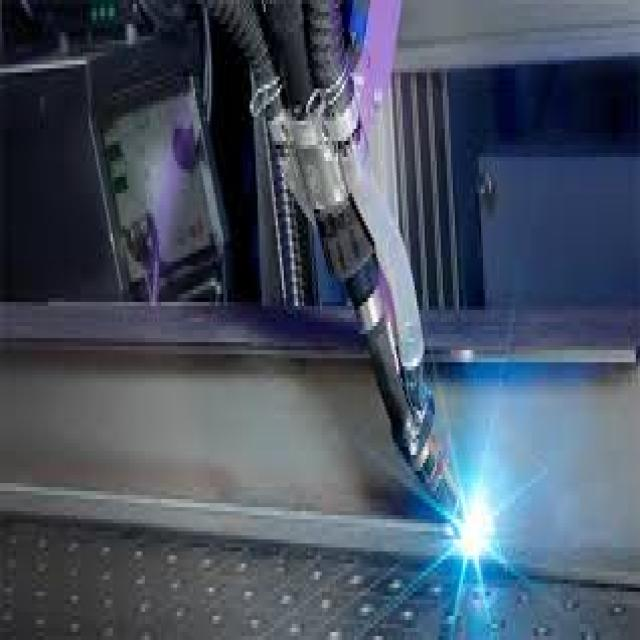welding: (447, 490, 495, 571)
